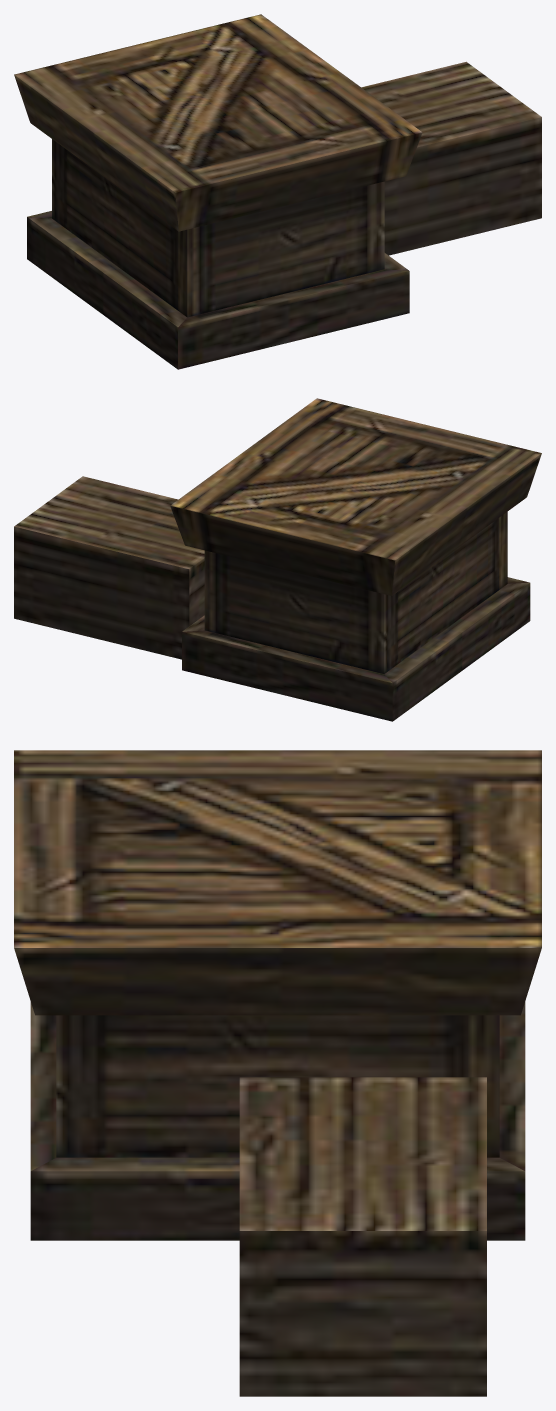
Rendered from Treasure_Box_01.FBX.
3 renders of one model, top to bottom at view 1: azimuth 30°, elevation 25°; view 2: azimuth 150°, elevation 25°; view 3: azimuth 270°, elevation 25°, orthographic. The views are drawn at different scales.
Parts seen in each view (by area): view 1: Treasure_Box_01; view 2: Treasure_Box_01; view 3: Treasure_Box_01.
Boxes of the visible parts, x1=… form: Treasure_Box_01: x1=14, y1=14, x2=541, y2=369; Treasure_Box_01: x1=14, y1=398, x2=541, y2=721; Treasure_Box_01: x1=14, y1=750, x2=541, y2=1396.
Size of the model in its own units: 2.36 by 0.9463 by 1.51.
